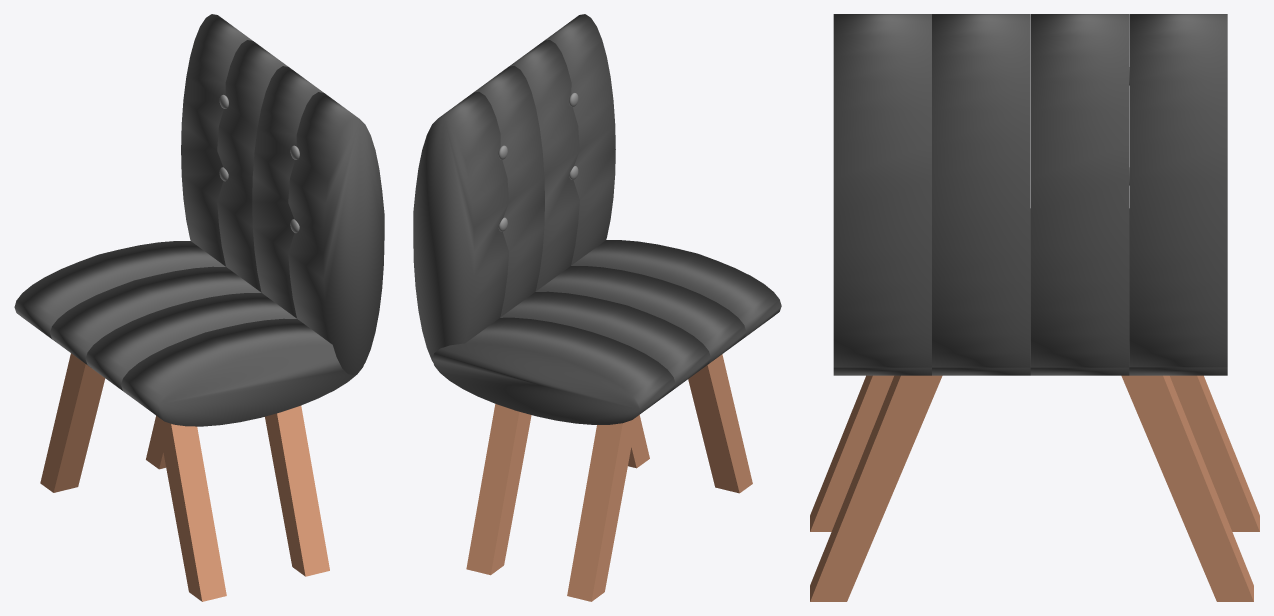
Rendered from staff chair.fbx.
The picture shows the model from 3 angles, left to right: view 1: azimuth 30°, elevation 25°; view 2: azimuth 150°, elevation 25°; view 3: azimuth 270°, elevation 25°; orthographic projection. The views are drawn at different scales.
Parts seen in each view (by area): view 1: Cube.002; view 2: Cube.002; view 3: Cube.002.
Boxes of the visible parts, x1,y1,x2,y2 form: Cube.002: [14, 14, 384, 601]; Cube.002: [413, 14, 781, 601]; Cube.002: [810, 14, 1259, 601].
Bounding box in the file's own units: 371 × 683 × 457.
